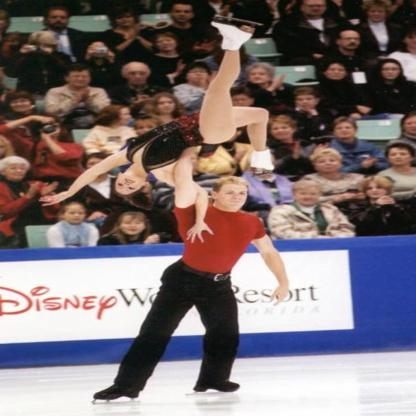face: (218, 186, 249, 209), (116, 176, 145, 195), (122, 217, 146, 236), (297, 188, 318, 207), (172, 6, 193, 24), (389, 149, 412, 165), (272, 124, 295, 140), (318, 156, 341, 172), (367, 182, 388, 199), (6, 163, 28, 179), (187, 67, 210, 82), (49, 13, 70, 29), (304, 1, 326, 16), (69, 73, 92, 87), (10, 98, 33, 112), (66, 208, 86, 224), (383, 64, 402, 80), (88, 160, 107, 176), (341, 35, 361, 50), (336, 123, 356, 138), (297, 95, 317, 110), (231, 97, 252, 111), (328, 65, 347, 80), (129, 70, 148, 85), (37, 40, 56, 55), (250, 71, 270, 85), (140, 125, 158, 140), (116, 13, 135, 27), (157, 38, 177, 51), (371, 6, 387, 22), (91, 44, 108, 59), (158, 99, 176, 113), (133, 96, 152, 109), (115, 110, 131, 125), (405, 118, 416, 134), (407, 34, 416, 49)
